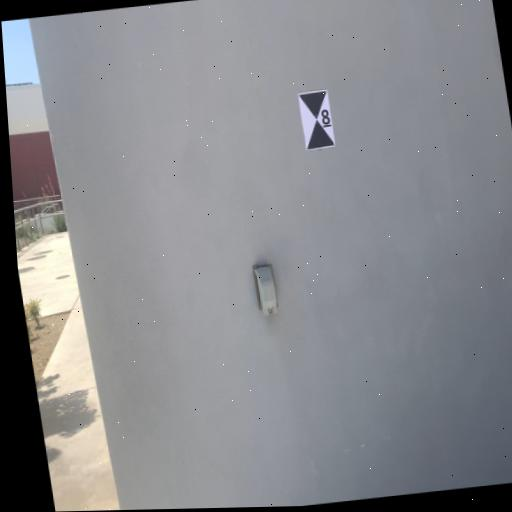target8: (298, 91, 335, 151)
